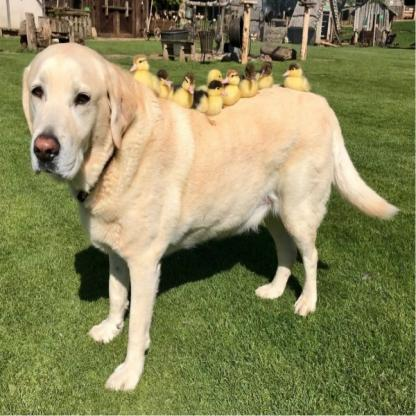dog: (22, 45, 396, 394)
